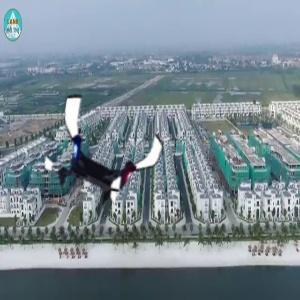drone: (44, 94, 166, 216)
